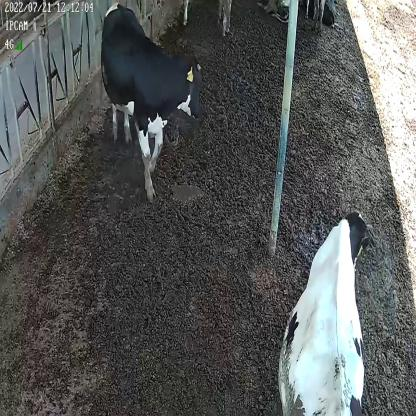cow: (99, 2, 204, 204), (277, 207, 376, 416)
